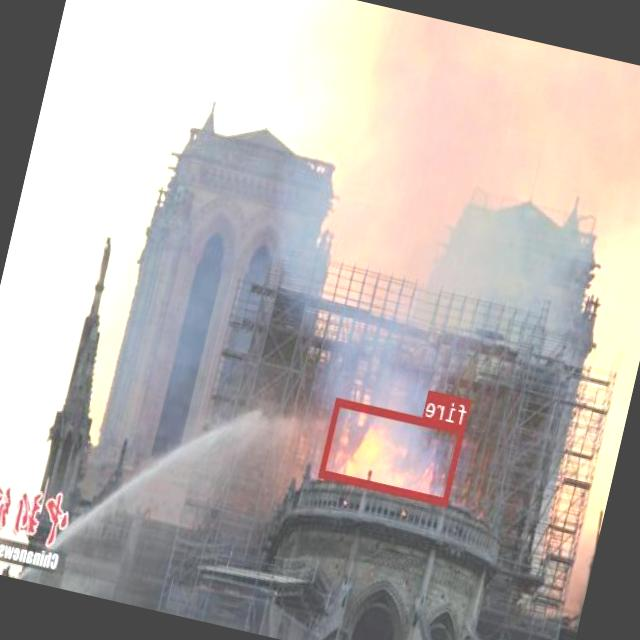fire: (319, 396, 466, 505)
